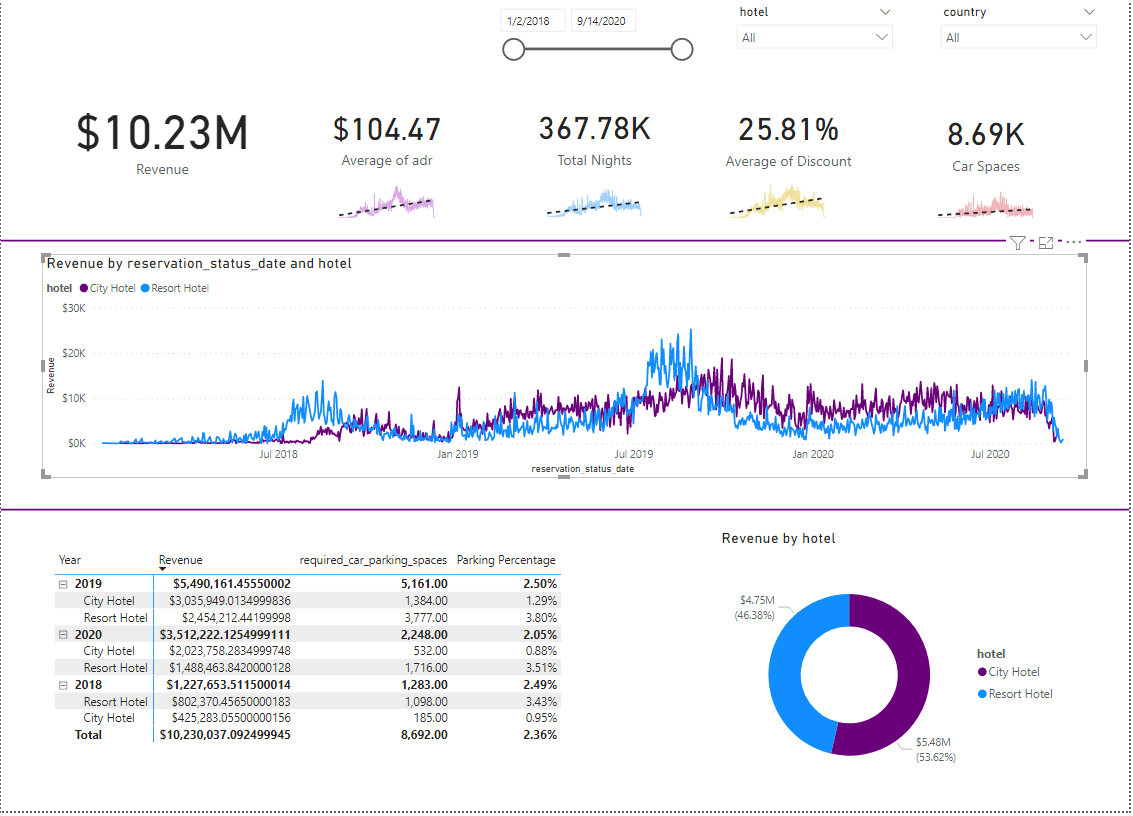

This screenshot's page, from the dashboard's own definition file:
{"tool":"powerbi","page":{"name":"Page 1","canvas":[1280,920],"ordinal":0},"visuals":[{"type":"shape","box":[0,257.5,1279.6,30.6],"z":0},{"type":"shape","box":[0,566.1,1279.6,23.8],"z":1000},{"type":"card","fields":{"Values":["Sum(Query1.Revenue)"]},"box":[26.1,78.3,314.2,149.7],"z":2000},{"type":"card","fields":{"Values":["Avg(Query1.adr)"]},"box":[317.6,88.5,240.5,129.3],"z":3000},{"type":"card","fields":{"Values":["Query1.Total Nights"]},"box":[546.8,88.5,253,128.2],"z":4000},{"type":"card","fields":{"Values":["Avg(Query1.Discount)"]},"box":[780.5,78.3,225.7,149.7],"z":5000},{"type":"lineChart","fields":{"Category":["Query1.reservation_status_date"],"Y":["Sum(Query1.Revenue)"],"Series":["Query1.hotel"]},"box":[46.5,288.1,1185.5,254.1],"z":6000},{"type":"slicer","fields":{"Values":["Query1.country"]},"box":[1055.8,0,197.4,68.9],"z":7000},{"type":"slicer","fields":{"Values":["Query1.hotel"]},"box":[824.5,0,197.4,68.9],"z":8000},{"type":"lineChart","fields":{"Category":["Query1.reservation_status_date"],"Y":["Sum(Query1.adr)"]},"box":[368.7,191.7,138.4,61.3],"z":9000},{"type":"lineChart","fields":{"Category":["Query1.reservation_status_date"],"Y":["Query1.Total Nights"]},"box":[604.6,191.7,137.3,60.1],"z":10000},{"type":"lineChart","fields":{"Category":["Query1.reservation_status_date"],"Y":["Sum(Query1.Discount)"]},"box":[812.2,192.8,137.3,60.1],"z":11000},{"type":"card","fields":{"Values":["Sum(Query1.required_car_parking_spaces)"]},"box":[1003.9,101,226.9,115.7],"z":12000},{"type":"lineChart","fields":{"Category":["Query1.reservation_status_date"],"Y":["Sum(Query1.required_car_parking_spaces)"]},"box":[1048.2,192.8,138.4,60.1],"z":13000},{"type":"donutChart","fields":{"Category":["Query1.hotel"],"Y":["Sum(Query1.Revenue)"]},"box":[812.2,600.1,394.8,312],"z":14000},{"type":"pivotTable","fields":{"Rows":["Query1.reservation_status_date.Variation.Date Hierarchy.Year","Query1.hotel"],"Values":["Sum(Query1.Revenue)","Sum(Query1.required_car_parking_spaces)","Query1.Parking Percentage"]},"box":[55.6,619.4,625.1,238.2],"z":15000},{"type":"slicer","fields":{"Values":["Query1.reservation_status_date"]},"box":[553.6,0,240.5,72.6],"z":16000}]}

Visuals, with their boxes in screenshot pixels (x1, y1, x2, y2), scaled from the page's 1280x920 canvas onto the 1133x816 screenshot:
shape: box=[0, 228, 1132, 256]
shape: box=[0, 502, 1132, 523]
card - Sum(Query1.Revenue): box=[23, 69, 301, 202]
card - Avg(Query1.adr): box=[281, 78, 494, 193]
card - Query1.Total Nights: box=[484, 78, 708, 192]
card - Avg(Query1.Discount): box=[691, 69, 891, 202]
lineChart - Query1.reservation_status_date x Sum(Query1.Revenue): box=[41, 256, 1091, 481]
slicer - Query1.country: box=[935, 0, 1109, 61]
slicer - Query1.hotel: box=[730, 0, 905, 61]
lineChart - Query1.reservation_status_date x Sum(Query1.adr): box=[326, 170, 449, 224]
lineChart - Query1.reservation_status_date x Query1.Total Nights: box=[535, 170, 657, 223]
lineChart - Query1.reservation_status_date x Sum(Query1.Discount): box=[719, 171, 840, 224]
card - Sum(Query1.required_car_parking_spaces): box=[889, 90, 1089, 192]
lineChart - Query1.reservation_status_date x Sum(Query1.required_car_parking_spaces): box=[928, 171, 1050, 224]
donutChart - Query1.hotel x Sum(Query1.Revenue): box=[719, 532, 1068, 809]
pivotTable - Query1.reservation_status_date.Variation.Date Hierarchy.Year x Query1.hotel: box=[49, 549, 603, 761]
slicer - Query1.reservation_status_date: box=[490, 0, 703, 64]
